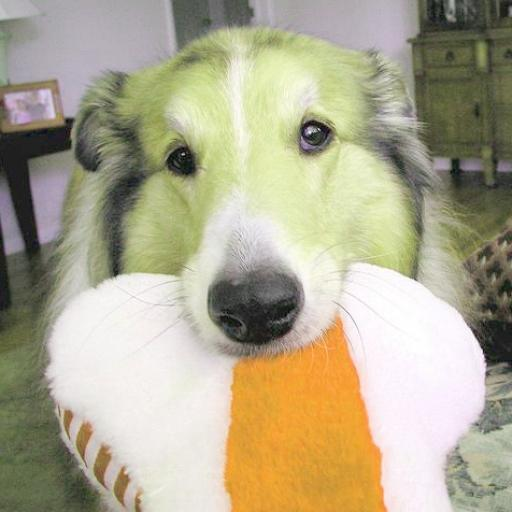dog_face: (83, 51, 430, 344)
